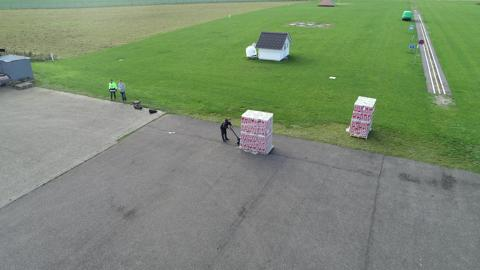RockwoolPallet: (237, 107, 274, 153)
